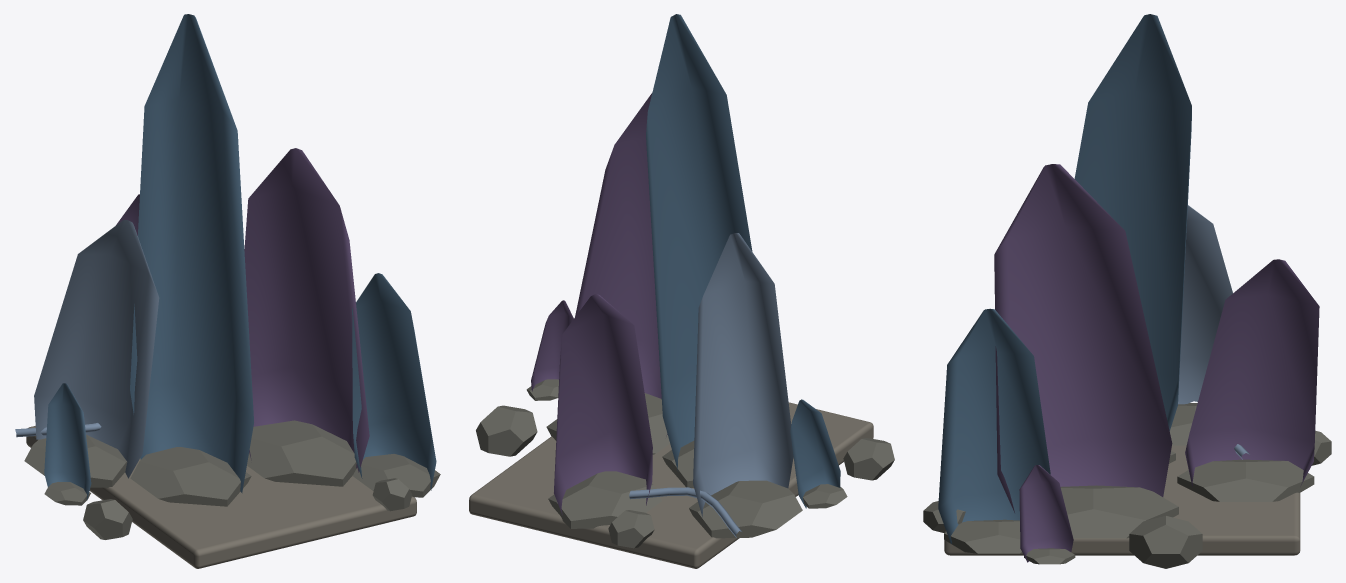
The model's file is crystal_cluster.glb.
3 renders of one model, left to right at view 1: azimuth 30°, elevation 25°; view 2: azimuth 150°, elevation 25°; view 3: azimuth 270°, elevation 25°, orthographic. The views are drawn at different scales.
Parts seen in each view (by area): view 1: crystal_cluster; view 2: crystal_cluster; view 3: crystal_cluster.
Part boxes in pixels (x1,y1,x2,y2): crystal_cluster: (15,14,440,568); crystal_cluster: (469,14,894,568); crystal_cluster: (923,14,1331,568).
Size of the model in its own units: 1.4 by 1.8 by 1.4.
Materials: 1 (1 with a texture image).
